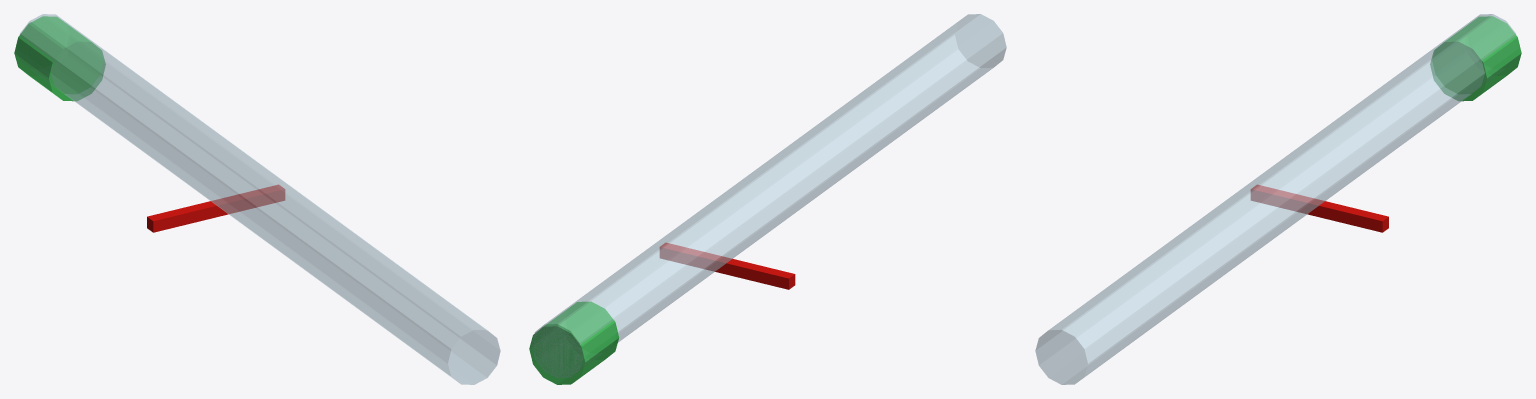
File: coolant_level_low.glb
3 views of the same model, side by side, from view 1: azimuth 30°, elevation 25°; view 2: azimuth 150°, elevation 25°; view 3: azimuth 330°, elevation 25° (orthographic).
Parts seen in each view (by area): view 1: coolant_level_low; view 2: coolant_level_low; view 3: coolant_level_low.
Part boxes in pixels (x1,y1,x2,y2): coolant_level_low: (14,14,500,384); coolant_level_low: (529,14,1006,384); coolant_level_low: (1035,14,1521,384).
Size of the model in its own units: 0.06 by 0.032 by 0.34.
